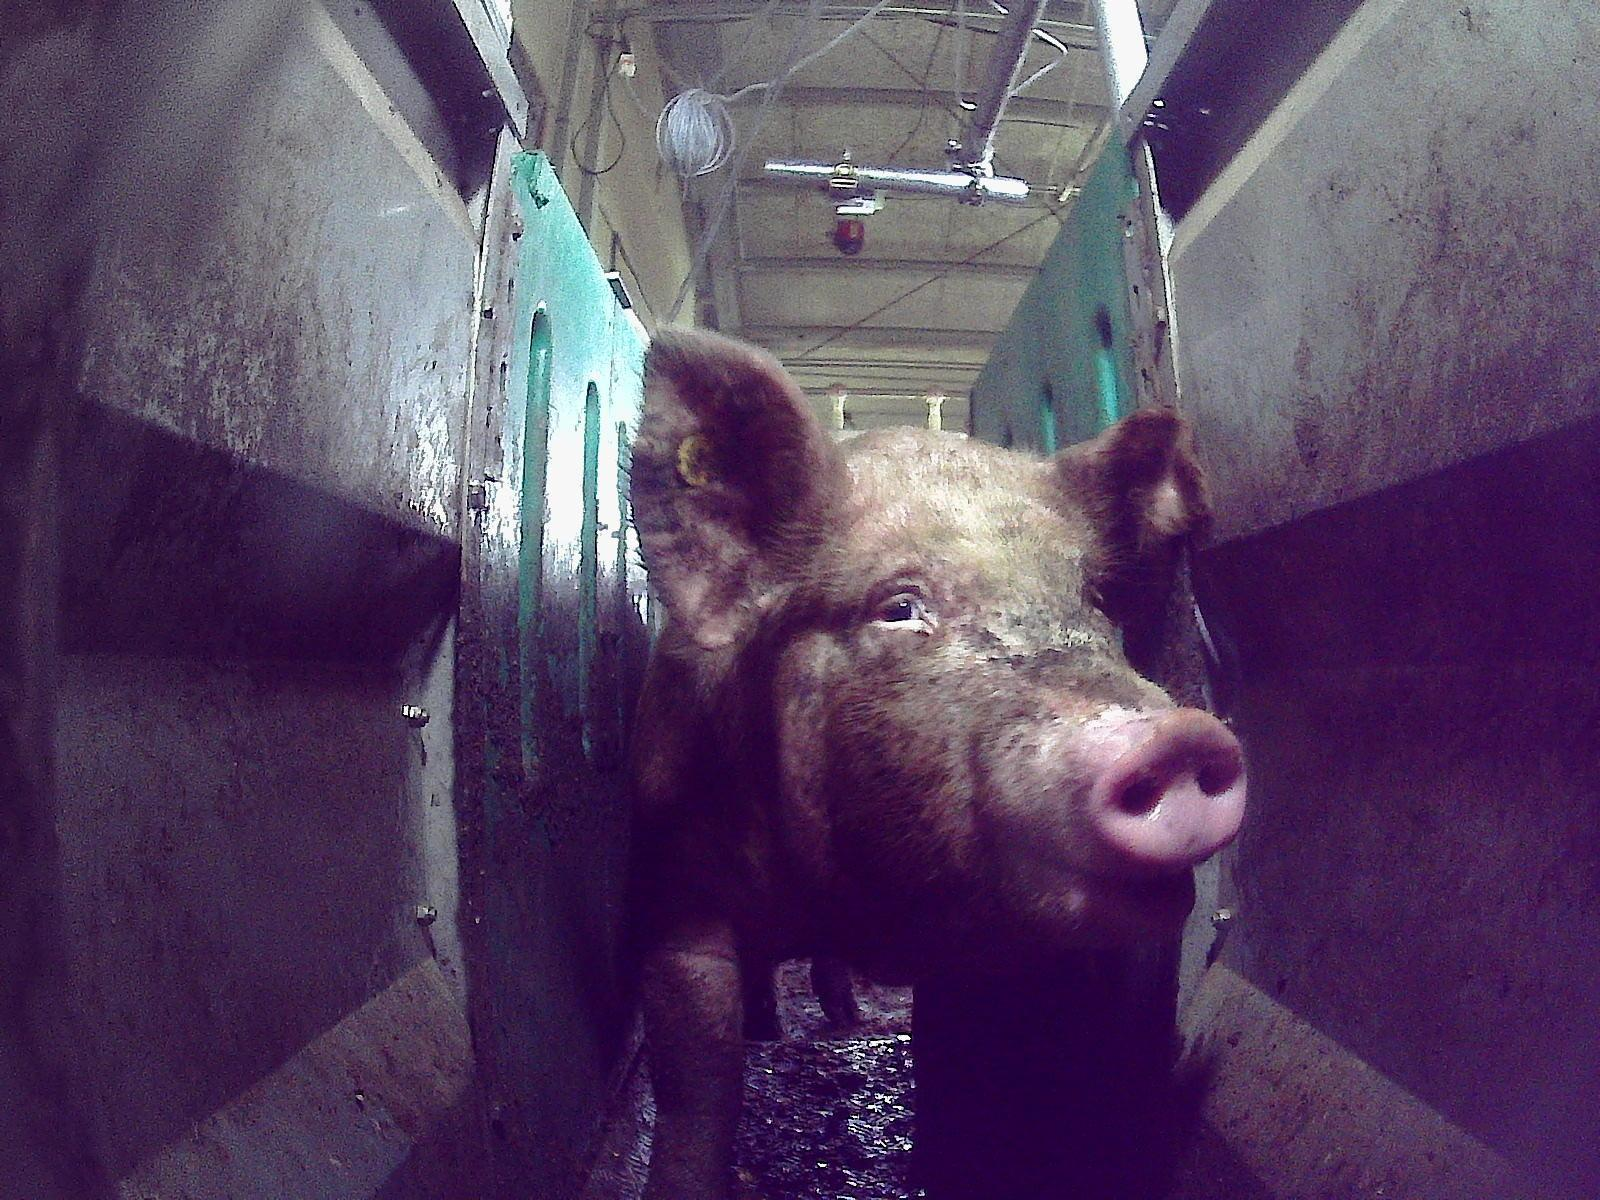Face: (733, 449, 1250, 948)
